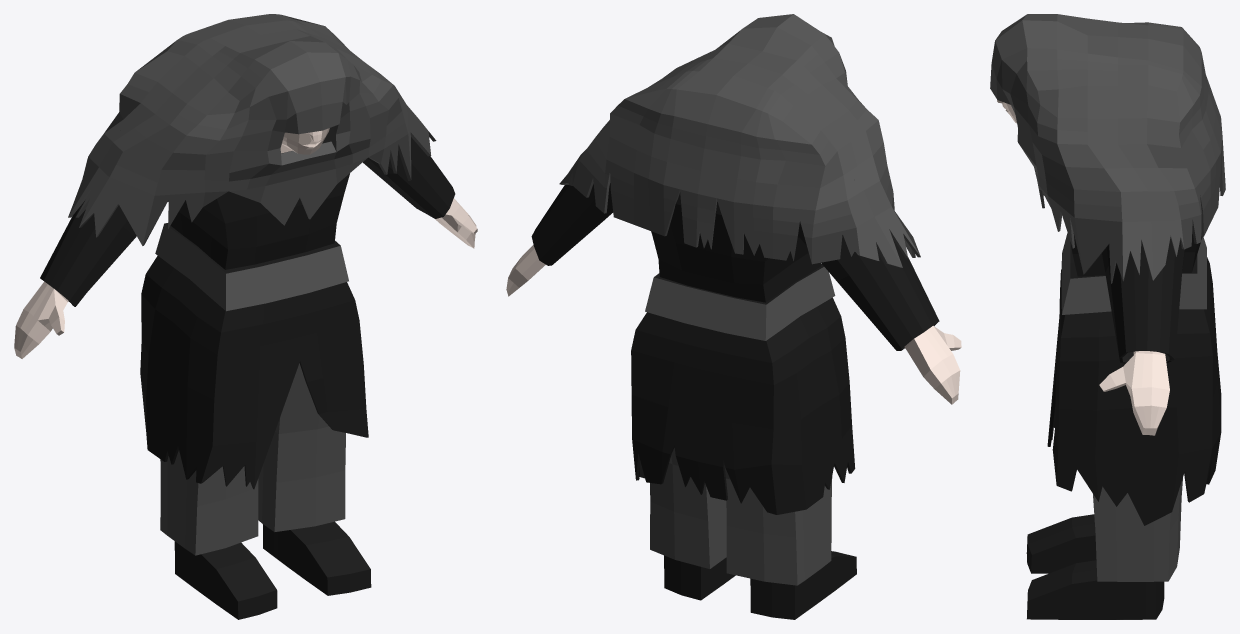
Rendered from cursed_pawn.fbx.
The picture shows the model from 3 angles, left to right: view 1: azimuth 30°, elevation 25°; view 2: azimuth 150°, elevation 25°; view 3: azimuth 270°, elevation 25°; orthographic projection. The views are drawn at different scales.
Parts seen in each view (by area): view 1: cursed pawn; view 2: cursed pawn; view 3: cursed pawn.
Boxes of the visible parts, <box> form: cursed pawn: <box>14,14,477,619</box>; cursed pawn: <box>506,14,961,619</box>; cursed pawn: <box>990,14,1225,619</box>.
Size of the model in its own units: 193 by 224 by 84.54.
